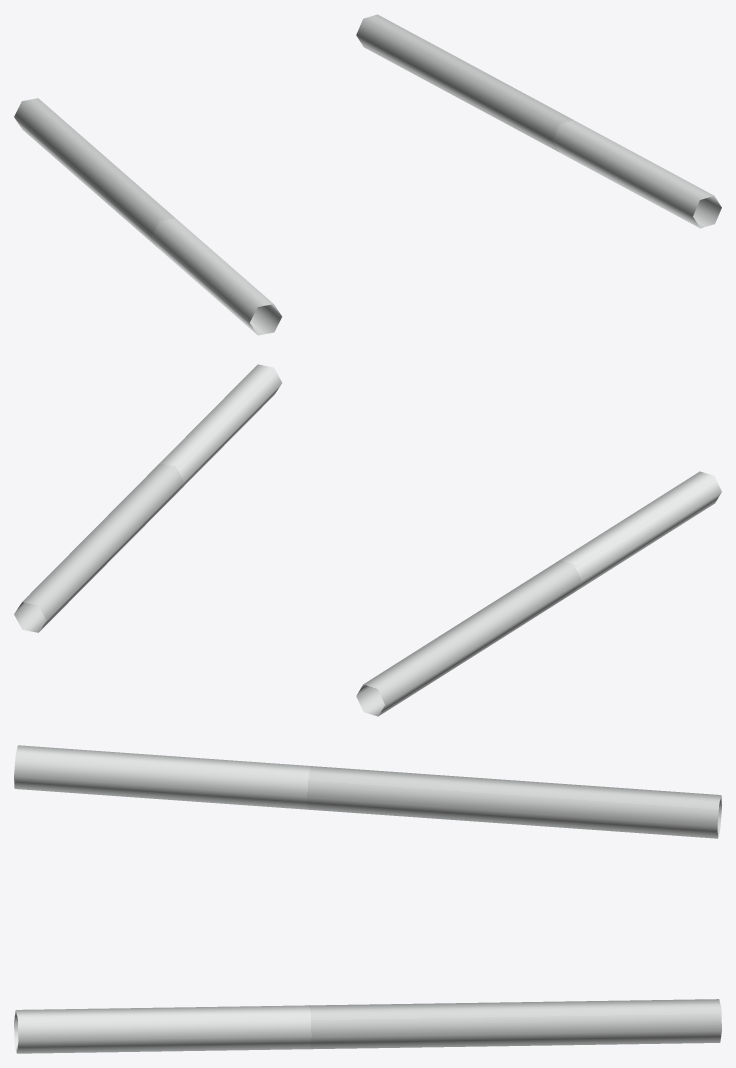
Rendered from nycsignalarm_regular6_c6.obj.
The picture shows the model from 3 angles, top to bottom: view 1: azimuth 30°, elevation 25°; view 2: azimuth 150°, elevation 25°; view 3: azimuth 270°, elevation 25°; orthographic projection. The views are drawn at different scales.
Visible parts, largest first — view 1: nycsignalarm_regular6_c6; view 2: nycsignalarm_regular6_c6; view 3: nycsignalarm_regular6_c6.
Boxes of the visible parts, x1,y1,x2,y2 form: nycsignalarm_regular6_c6: [14, 14, 721, 335]; nycsignalarm_regular6_c6: [14, 364, 721, 716]; nycsignalarm_regular6_c6: [14, 745, 721, 1053].
Bounding box in the file's own units: 0.9525 × 0.0847 × 1.01.
